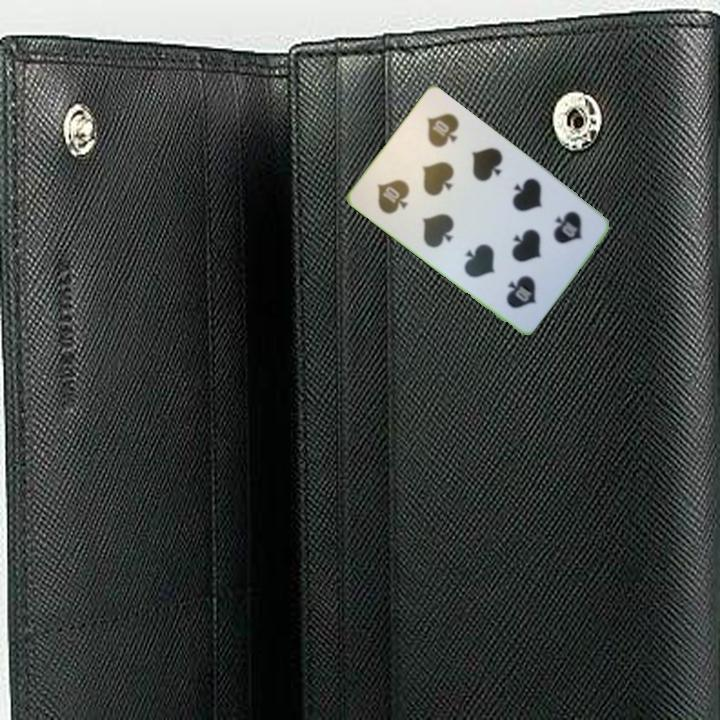s_10.png: (357, 146, 442, 232), (517, 190, 601, 276)
